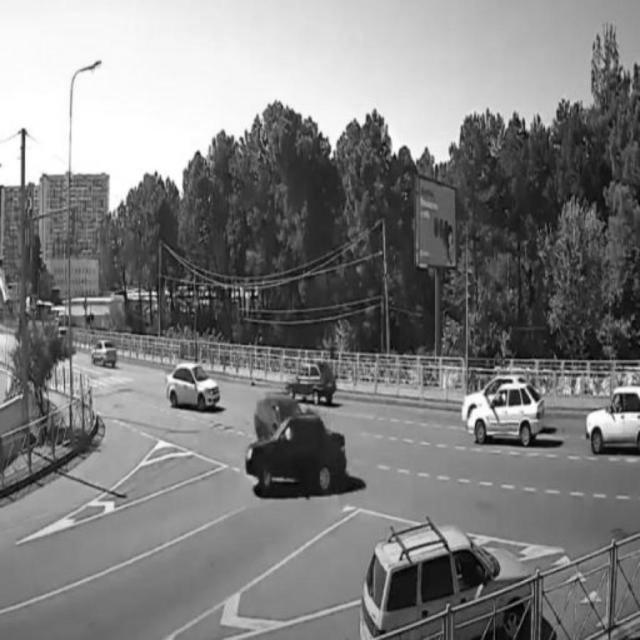accident: (244, 391, 348, 492)
vehicle: (360, 517, 534, 640), (469, 386, 547, 444), (584, 387, 640, 455), (164, 363, 222, 409), (287, 362, 337, 406)
